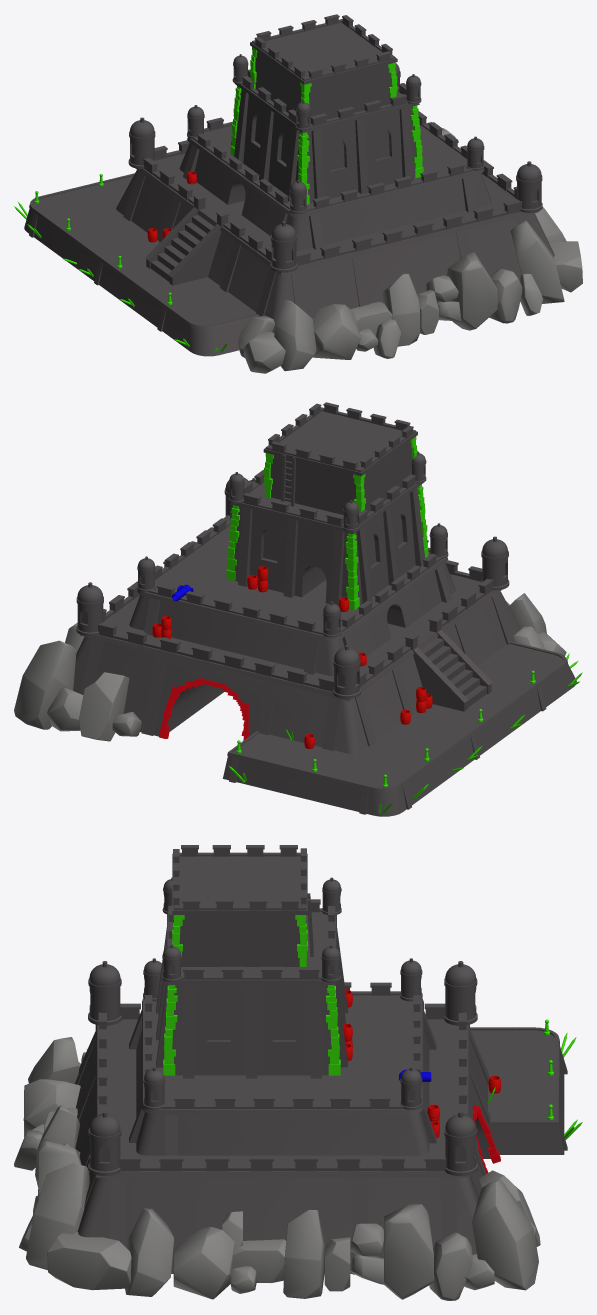
Rendered from Fort.fbx.
The picture shows the model from 3 angles, top to bottom: view 1: azimuth 30°, elevation 25°; view 2: azimuth 150°, elevation 25°; view 3: azimuth 270°, elevation 25°; orthographic projection. The views are drawn at different scales.
Visible parts, largest first — view 1: Cube.065, Cube.066, Cube.550, Cube.553, Cube.548, Cube.551, Cube.552, Cube.408, Cube.557, Cube.545, Cube.542, Cylinder.006 (+21 smaller); view 2: Cube.065, Cube.066, Cube.530, Cube.528, Cube.408, Cylinder.004, Cylinder.005, Cube.531, Cylinder.006, Cube.138, Cube.069, Cube.220 (+14 smaller); view 3: Cube.065, Cube.066, Cube.530, Cube.534, Cube.542, Cube.553, Cube.536, Cube.532, Cube.533, Cube.539, Cube.548, Cylinder.007 (+31 smaller).
Boxes of the visible parts, <box> form: Cube.065: <box>116,22,554,333</box>; Cube.066: <box>24,173,258,356</box>; Cube.550: <box>447,252,497,330</box>; Cube.553: <box>510,220,564,303</box>; Cube.548: <box>312,304,360,359</box>; Cube.551: <box>274,300,316,371</box>; Cube.552: <box>382,273,420,346</box>; Cube.408: <box>150,215,214,281</box>; Cube.557: <box>243,332,285,373</box>; Cube.545: <box>489,269,522,323</box>; Cube.542: <box>549,241,582,292</box>; Cylinder.006: <box>270,221,297,272</box>; Cube.065: <box>73,411,520,753</box>; Cube.066: <box>223,641,576,816</box>; Cube.530: <box>14,640,76,729</box>; Cube.528: <box>78,672,129,741</box>; Cube.408: <box>421,638,486,707</box>; Cylinder.004: <box>332,645,360,698</box>; Cylinder.005: <box>76,582,103,636</box>; Cube.531: <box>47,687,83,731</box>; Cylinder.006: <box>481,536,509,590</box>; Cube.138: <box>413,652,467,711</box>; Cube.069: <box>141,654,167,735</box>; Cube.220: <box>283,518,297,597</box>; Cube.065: <box>75,853,496,1273</box>; Cube.066: <box>470,1027,564,1154</box>; Cube.530: <box>472,1179,538,1290</box>; Cube.534: <box>384,1204,434,1299</box>; Cube.542: <box>47,1231,131,1290</box>; Cube.553: <box>26,1163,89,1270</box>; Cube.536: <box>173,1226,235,1299</box>; Cube.532: <box>283,1210,325,1298</box>; Cube.533: <box>125,1208,173,1296</box>; Cube.539: <box>429,1232,472,1300</box>; Cube.548: <box>23,1079,80,1137</box>; Cylinder.007: <box>88,1111,121,1175</box>.
Bounding box in the file's own units: 323 × 197 × 322.
